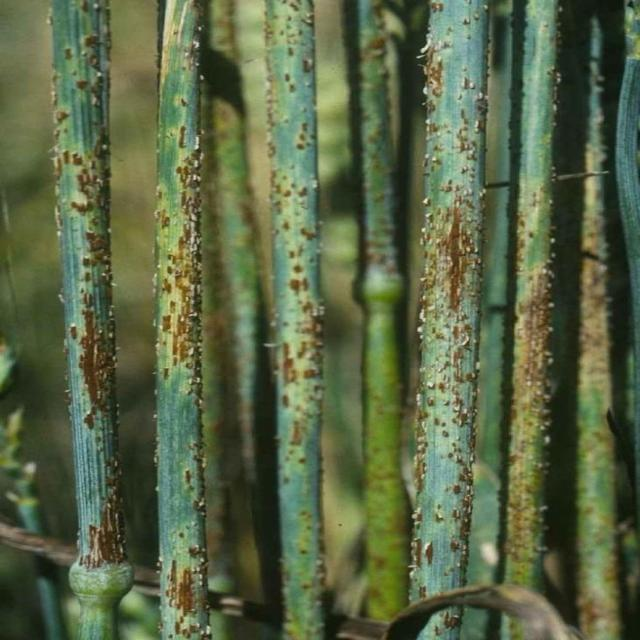wheat-stemrust: (406, 0, 495, 605), (48, 0, 134, 577), (495, 0, 572, 599), (260, 0, 328, 640), (153, 0, 218, 640)
